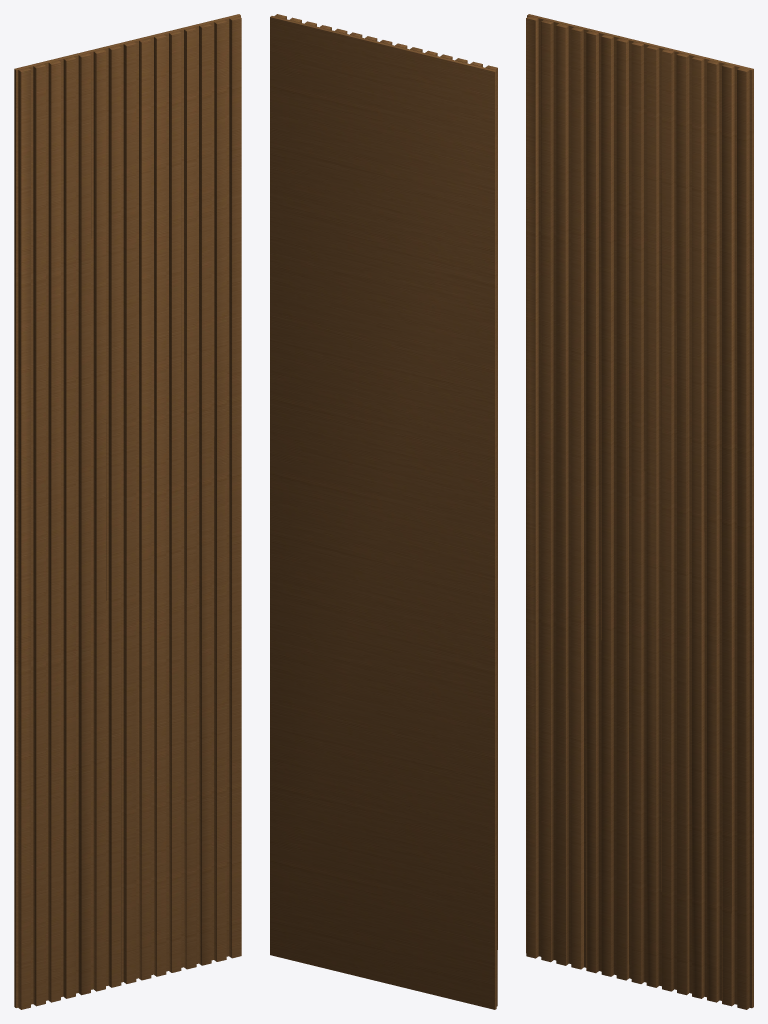
3 views of the same model, side by side, from view 1: azimuth 30°, elevation 25°; view 2: azimuth 150°, elevation 25°; view 3: azimuth 330°, elevation 25° (orthographic).
Visible parts, largest first — view 1: C-skp11FD; view 2: C-skp11FD; view 3: C-skp11FD.
Boxes of the visible parts, x1,y1,x2,y2 form: C-skp11FD: [14, 14, 241, 1009]; C-skp11FD: [270, 14, 497, 1009]; C-skp11FD: [526, 14, 753, 1009].
Bounding box in the file's own units: 0.6022 × 2.4 × 0.0233.
1 material, 1 textured.
